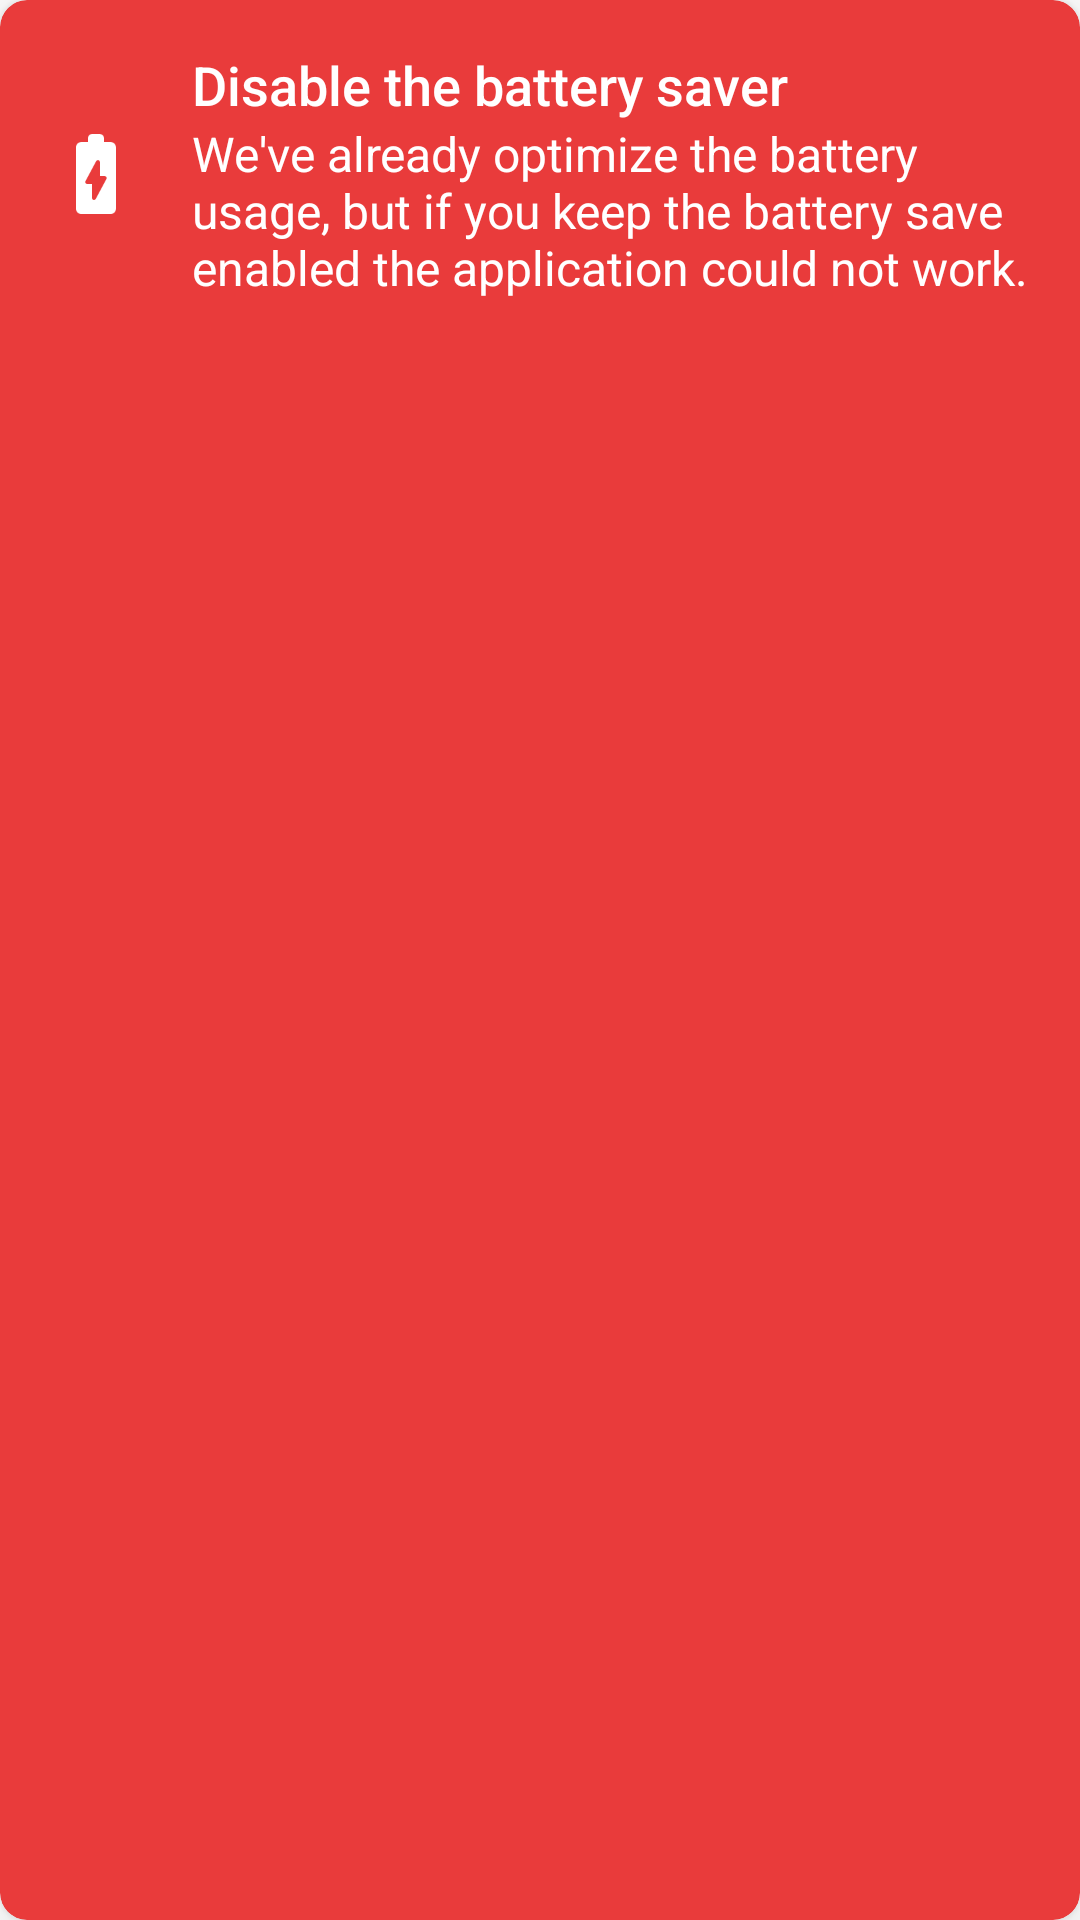

Icons on this 1080px×1920px Android screen, each with its box as (x1, y1, x2, y2):
battery charging full: (76, 134, 116, 214)
